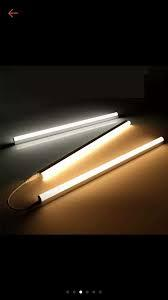Lamp: (35, 127, 168, 211), (25, 111, 148, 187), (5, 103, 142, 161)
